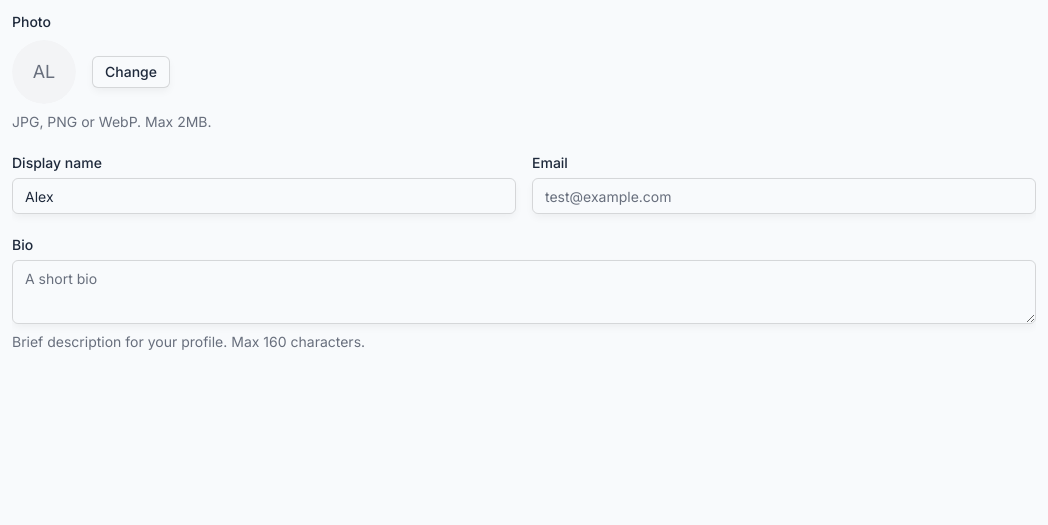
ProfileSettingsForm › should surface fault errors from the server action
This screenshot has width=1048, height=525.
Replace the text in the field labelled "Display name" with "Jordan" at (264, 196), box [12,178,516,214]
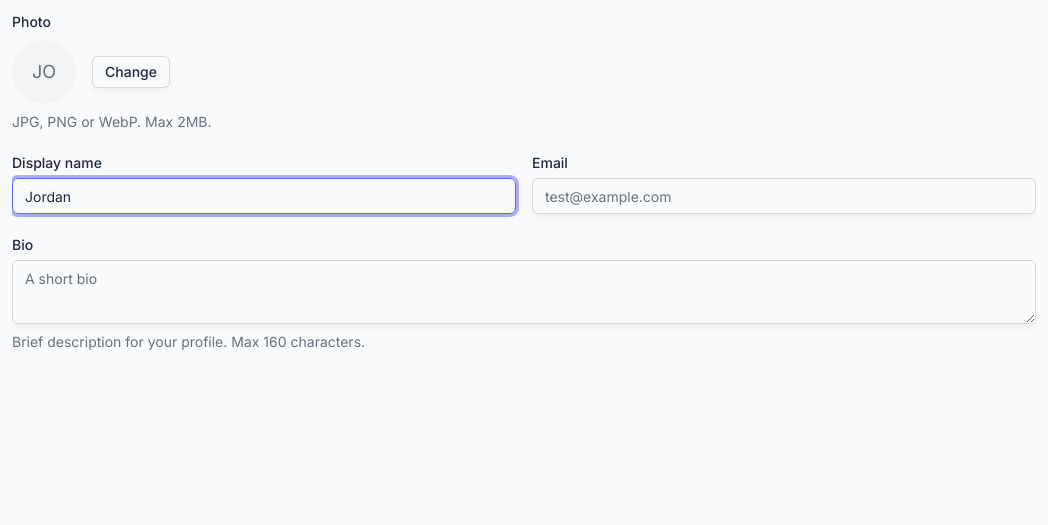
Press Tab
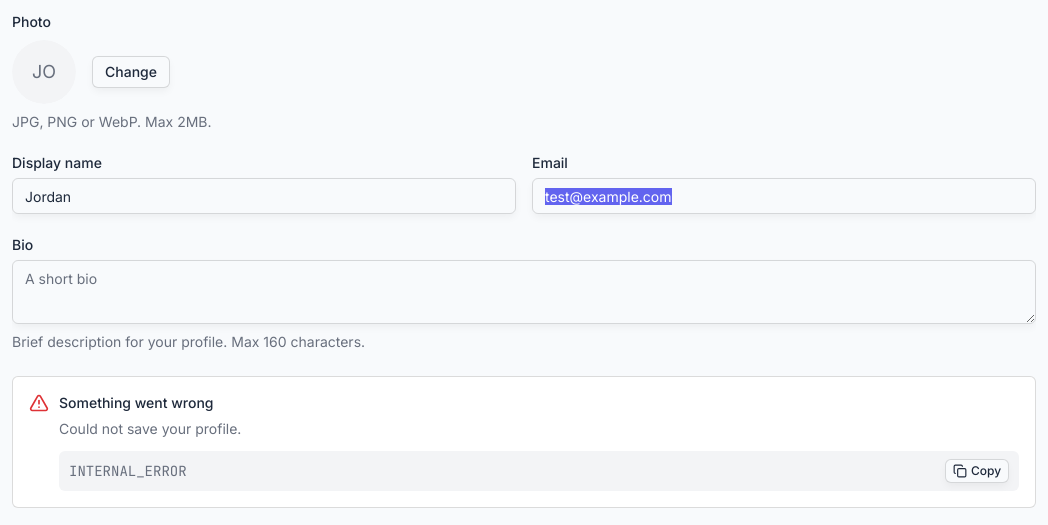
Check: the button "Copy" is shown, box [945,459,1009,483]
